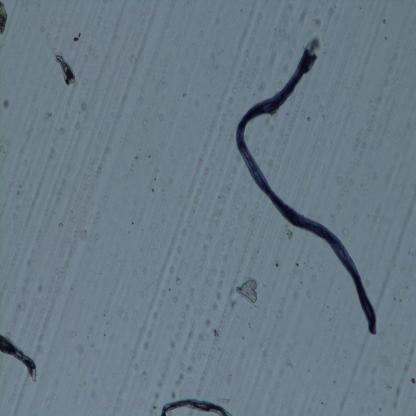Background material: (228, 42, 263, 102), (231, 273, 262, 310), (196, 354, 213, 396), (249, 13, 262, 46), (0, 1, 10, 40), (296, 4, 312, 25), (77, 54, 89, 78), (219, 113, 228, 144), (210, 52, 220, 74), (353, 131, 363, 152), (209, 327, 221, 344), (264, 118, 278, 132), (279, 25, 292, 40), (281, 223, 293, 239), (182, 332, 192, 351), (94, 160, 103, 181), (409, 338, 416, 364), (129, 52, 142, 66), (268, 48, 278, 66), (261, 342, 270, 360), (118, 310, 130, 322), (71, 30, 81, 44), (44, 109, 54, 123), (312, 16, 323, 28), (25, 257, 36, 269), (176, 374, 186, 387), (48, 146, 56, 162), (1, 96, 10, 110), (79, 230, 89, 242), (340, 227, 350, 238), (81, 99, 90, 111), (20, 283, 29, 295), (204, 318, 214, 328), (217, 268, 227, 278), (140, 368, 148, 380), (18, 298, 26, 310), (167, 264, 176, 274), (64, 110, 72, 121), (35, 282, 43, 293), (226, 373, 234, 384), (141, 116, 148, 128), (170, 388, 177, 400), (273, 309, 282, 318), (104, 318, 112, 328), (214, 290, 222, 300), (174, 276, 182, 286), (81, 79, 90, 87), (211, 302, 219, 311), (230, 299, 238, 308), (156, 380, 163, 390), (144, 340, 151, 350), (273, 258, 280, 268), (328, 6, 334, 17), (39, 23, 45, 34), (173, 294, 179, 305), (180, 230, 188, 238), (151, 312, 159, 320), (304, 290, 312, 298), (92, 232, 100, 240), (336, 177, 344, 185), (153, 391, 160, 400), (396, 387, 401, 399), (58, 220, 64, 230), (385, 383, 392, 391), (217, 281, 225, 288), (170, 340, 177, 348), (188, 366, 195, 374), (289, 361, 296, 369), (198, 333, 204, 342), (158, 113, 164, 121), (75, 121, 81, 129), (306, 114, 312, 122), (16, 204, 22, 212), (14, 190, 22, 196), (206, 68, 211, 77), (392, 402, 398, 409), (327, 316, 333, 323), (294, 261, 300, 268), (182, 90, 187, 98), (60, 127, 65, 135), (293, 292, 299, 298), (152, 404, 158, 410), (410, 378, 416, 384), (372, 173, 378, 179), (378, 407, 383, 413), (46, 33, 51, 39), (382, 18, 386, 25), (383, 36, 388, 41), (404, 284, 409, 289), (151, 188, 156, 193), (134, 364, 138, 370), (240, 334, 244, 340), (398, 298, 402, 303), (133, 156, 138, 160), (320, 114, 324, 118), (218, 346, 221, 351), (394, 298, 396, 302), (154, 177, 156, 181), (148, 155, 150, 158)
Cellulose filter fibre: (0, 333, 40, 384), (159, 394, 234, 415), (53, 50, 76, 86)
Cotton: (232, 45, 378, 336)
